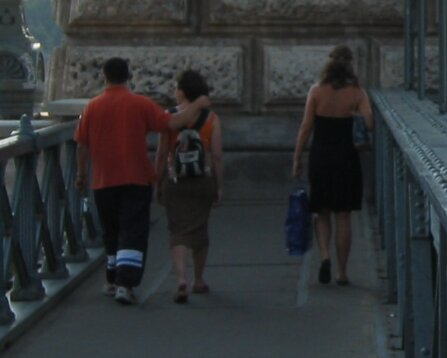person: (292, 40, 382, 290), (73, 52, 162, 303), (152, 65, 242, 303)
